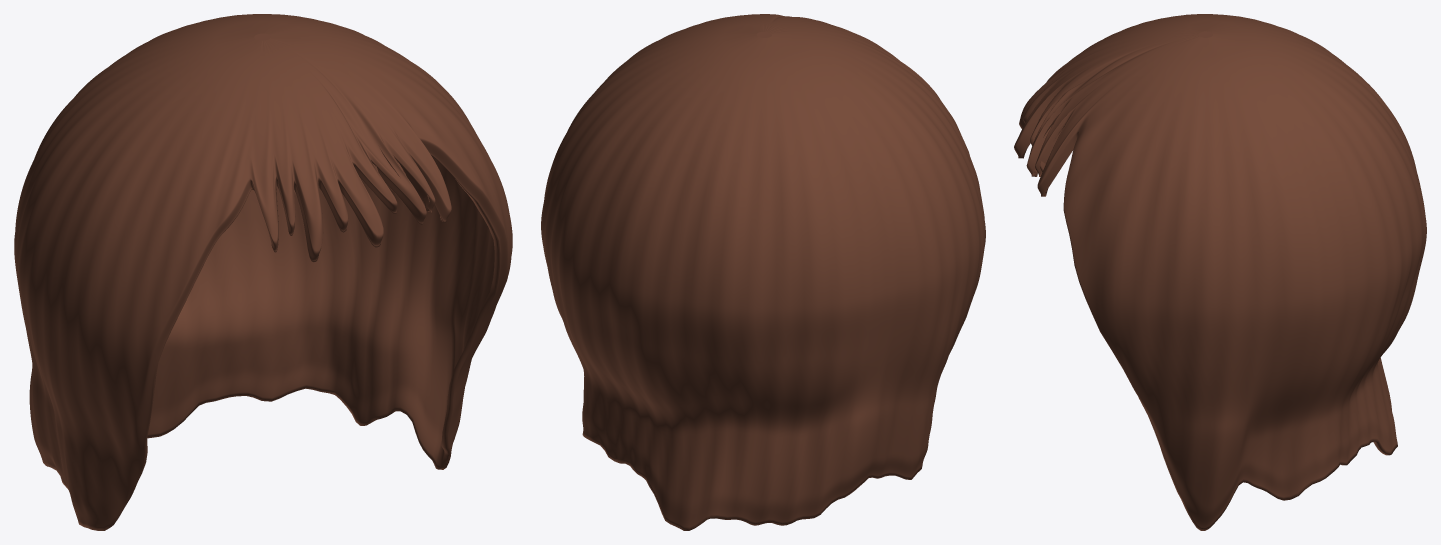
Rendered from side-sweep-none.glb.
3 views of the same model, side by side, from view 1: azimuth 30°, elevation 25°; view 2: azimuth 150°, elevation 25°; view 3: azimuth 270°, elevation 25° (orthographic). The views are drawn at different scales.
Visible parts, largest first — view 1: Hair / layered lob; view 2: Hair / layered lob; view 3: Hair / layered lob.
Boxes of the visible parts, bbox=[...] form: Hair / layered lob: bbox=[14, 14, 512, 530]; Hair / layered lob: bbox=[541, 14, 985, 530]; Hair / layered lob: bbox=[1014, 14, 1426, 530].
Size of the model in its own units: 0.8388 by 0.8786 by 0.782.
